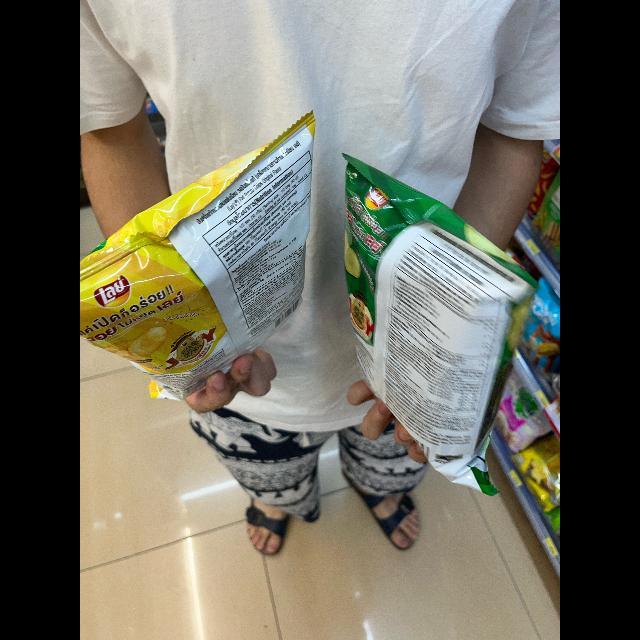snack_bag: (80, 110, 322, 414), (338, 147, 540, 496)
